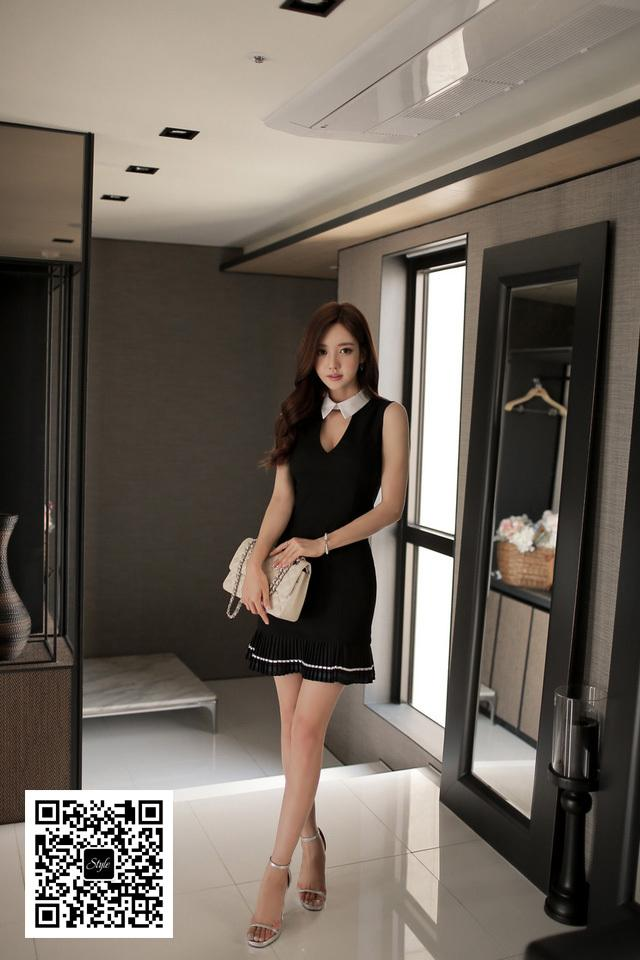person: (198, 297, 390, 904)
